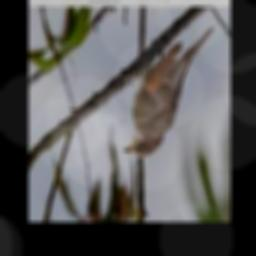Cuckoo: (123, 26, 215, 157)
